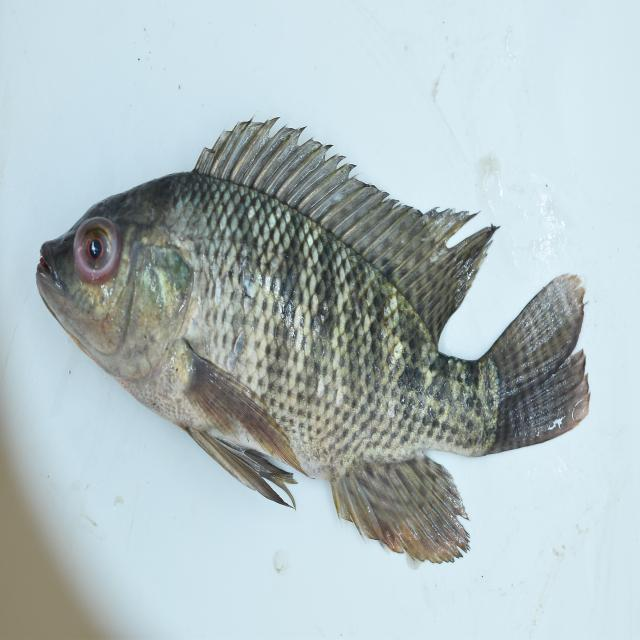Columnaris Disease: (23, 121, 597, 560)
